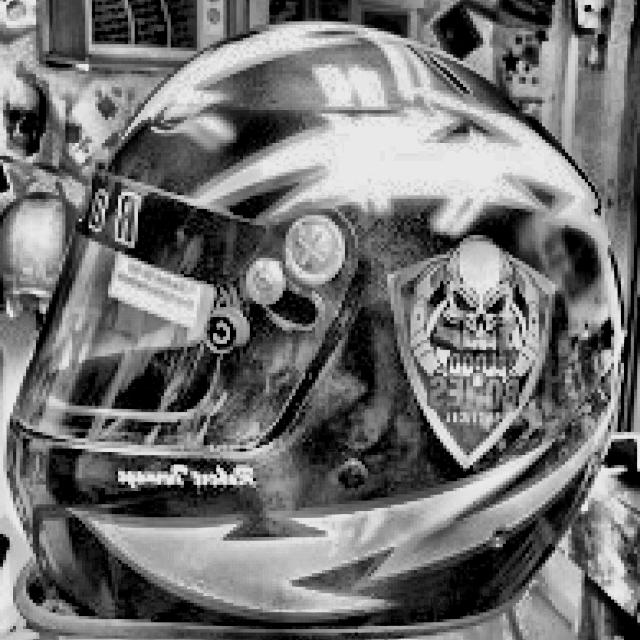Helmet: (3, 25, 630, 640)
